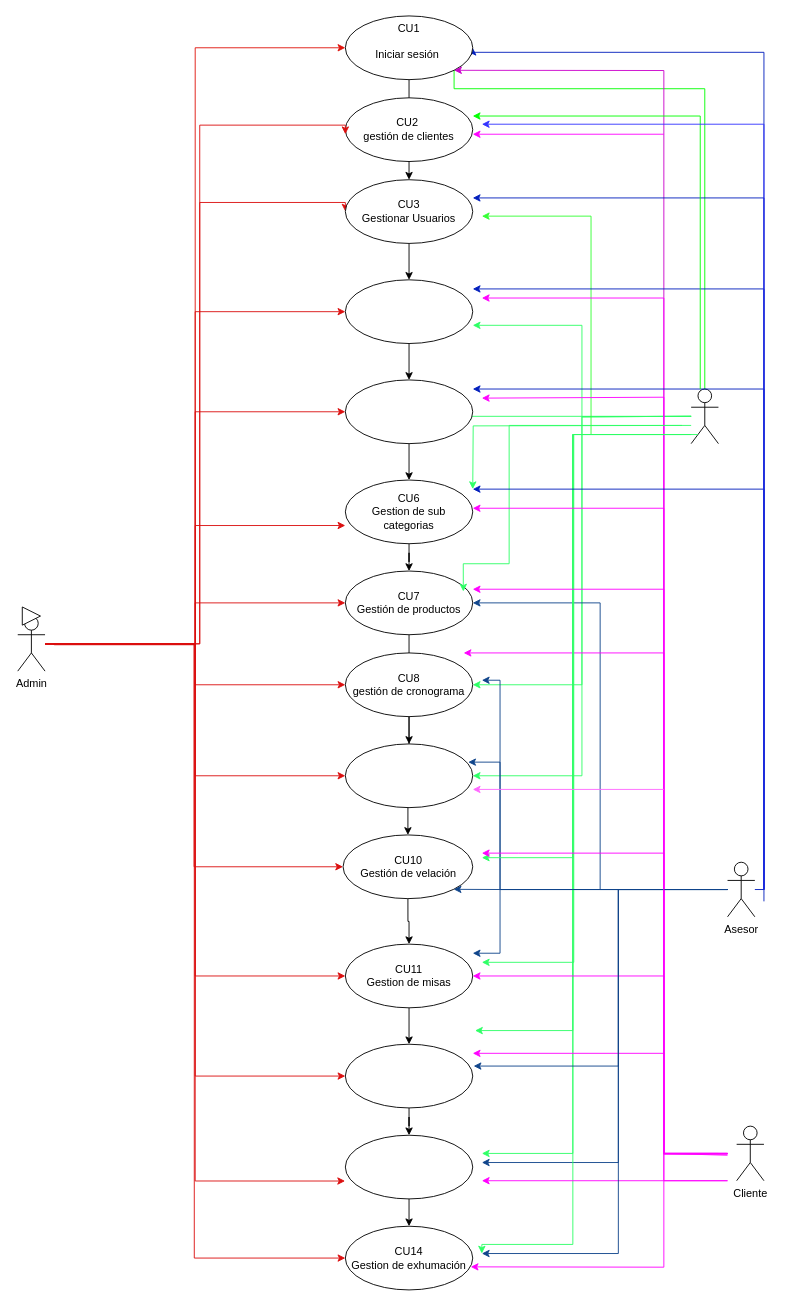
Some shapes in this 787 by 1306 pixel diagram are drawn without their labels. The centre of each missing label's shape, as x and y in pixels:
Administrador: the point at 704,416
CU12 Gestion de sepelio: the point at 408,1075
CU13 Gestion de resportes: the point at 408,1166
CU4 Gestion de compras: the point at 408,311
CU5 Gestionar Categorías: the point at 408,411
CU9 Gestionar tramites: the point at 408,775
